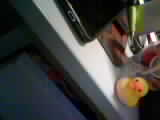duck: (109, 72, 146, 111)
